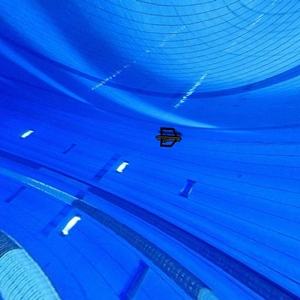submarine: (152, 125, 186, 153)
